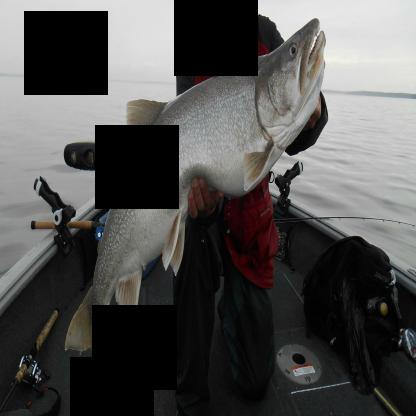fish: (66, 17, 328, 394)
